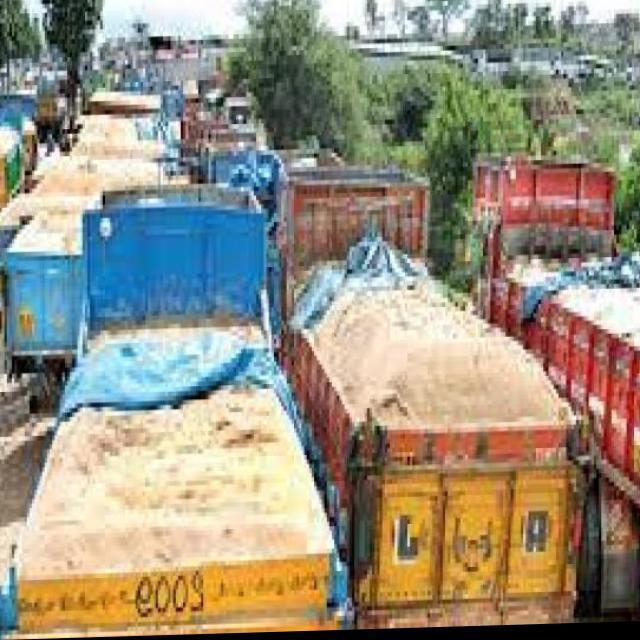uncovered: (324, 290, 526, 632), (46, 411, 301, 639), (0, 83, 166, 302), (581, 292, 640, 623)
